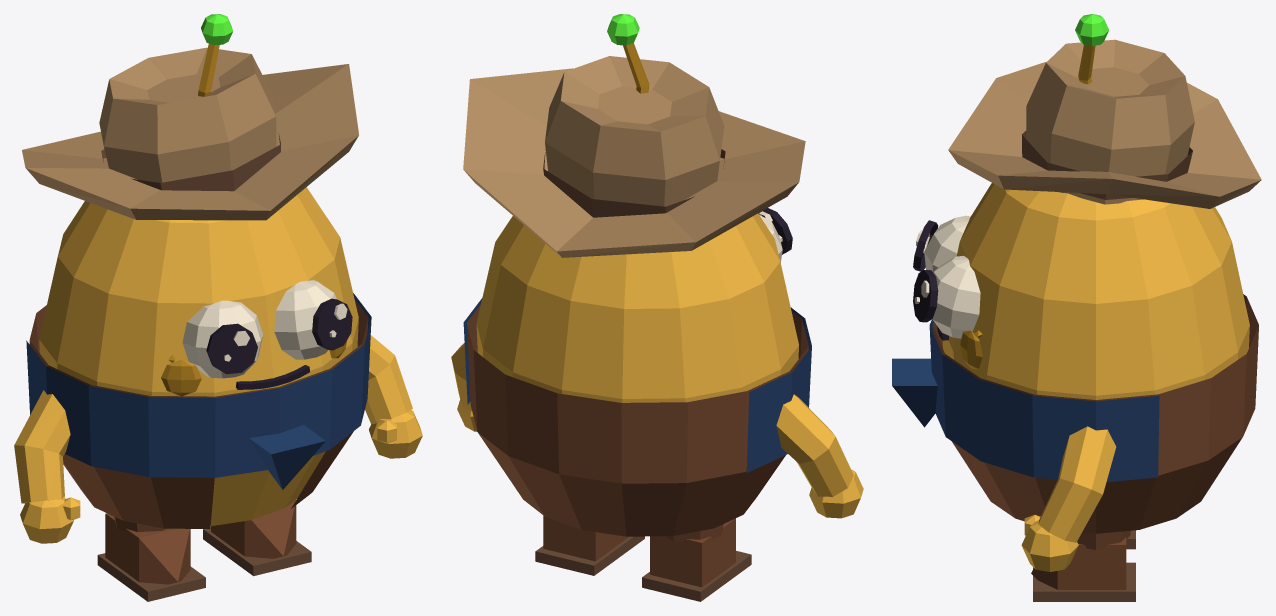
File: Char_Native_Townie.obj
3 renders of one model, left to right at view 1: azimuth 30°, elevation 25°; view 2: azimuth 150°, elevation 25°; view 3: azimuth 270°, elevation 25°, orthographic. The views are drawn at different scales.
Visible parts, largest first — view 1: Char_Native_Townie_Body, Char_Native_Townie_Head, Char_Native_Townie_Arm_R, Char_Native_Townie_Leg_R, Char_Native_Townie_Leg_L, Char_Native_Townie_Arm_L; view 2: Char_Native_Townie_Body, Char_Native_Townie_Leg_R, Char_Native_Townie_Arm_R, Char_Native_Townie_Leg_L, Char_Native_Townie_Head, Char_Native_Townie_Arm_L; view 3: Char_Native_Townie_Body, Char_Native_Townie_Head, Char_Native_Townie_Arm_L, Char_Native_Townie_Leg_L.
Part boxes in pixels (x1,y1,x2,y2): Char_Native_Townie_Body: (22, 47, 371, 528); Char_Native_Townie_Head: (161, 14, 352, 396); Char_Native_Townie_Arm_R: (14, 390, 80, 543); Char_Native_Townie_Leg_R: (97, 513, 205, 601); Char_Native_Townie_Leg_L: (203, 500, 311, 576); Char_Native_Townie_Arm_L: (365, 335, 422, 458); Char_Native_Townie_Body: (463, 56, 811, 536); Char_Native_Townie_Leg_R: (642, 518, 751, 601); Char_Native_Townie_Arm_R: (776, 394, 863, 518); Char_Native_Townie_Leg_L: (535, 515, 644, 575); Char_Native_Townie_Head: (607, 14, 792, 262); Char_Native_Townie_Arm_L: (451, 343, 477, 431); Char_Native_Townie_Body: (892, 39, 1261, 533); Char_Native_Townie_Head: (913, 14, 1108, 368); Char_Native_Townie_Arm_L: (1021, 426, 1116, 571); Char_Native_Townie_Leg_L: (1031, 530, 1135, 601).
Bounding box in the file's own units: 1.23 × 1.6 × 0.9686.
